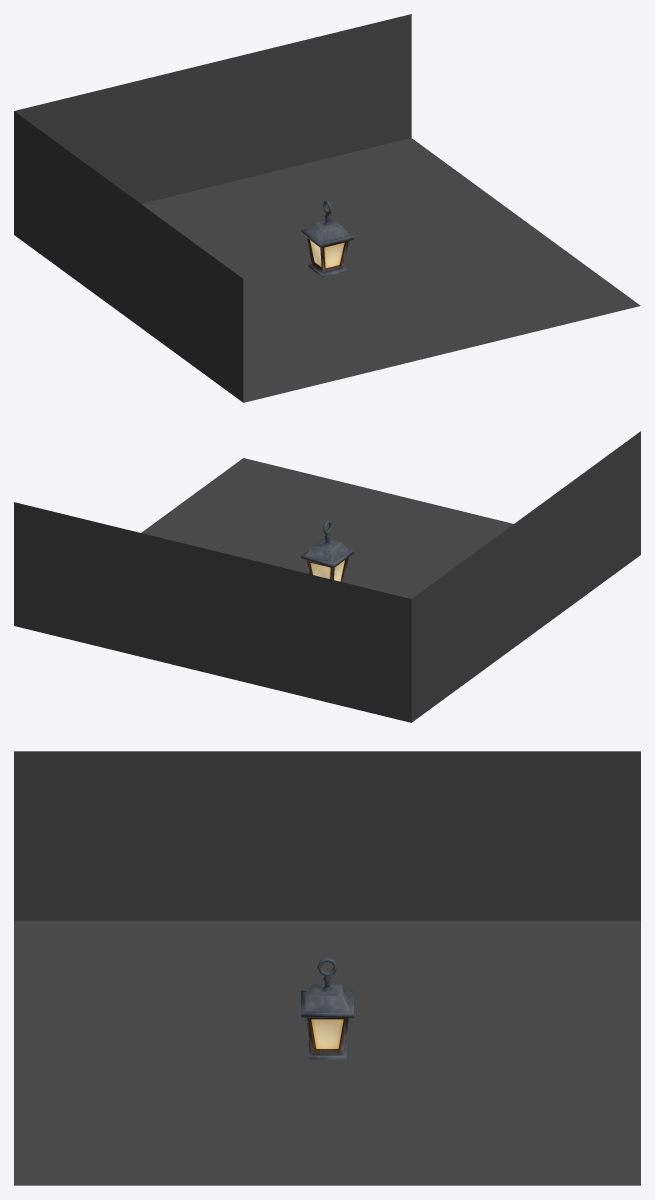
File: Lantern.gltf
3 views of the same model, one above another, from view 1: azimuth 30°, elevation 25°; view 2: azimuth 150°, elevation 25°; view 3: azimuth 270°, elevation 25° (orthographic). The views are drawn at different scales.
Parts seen in each view (by area): view 1: Plane, Cube_low; view 2: Plane, Cube_low; view 3: Plane, Cube_low.
Part boxes in pixels (box(x1,y1,x2,y2)): Plane: box(14, 14, 640, 402); Cube_low: box(301, 200, 353, 277); Plane: box(14, 431, 640, 722); Cube_low: box(301, 520, 353, 582); Plane: box(14, 751, 640, 1185); Cube_low: box(301, 957, 353, 1059).
Bounding box in the file's own units: 40.52 × 12.07 × 40.52.
5 materials, 4 textured.
